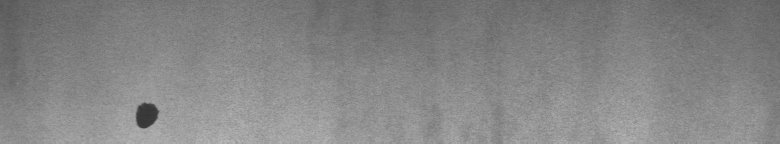fi: (128, 96, 165, 136)
